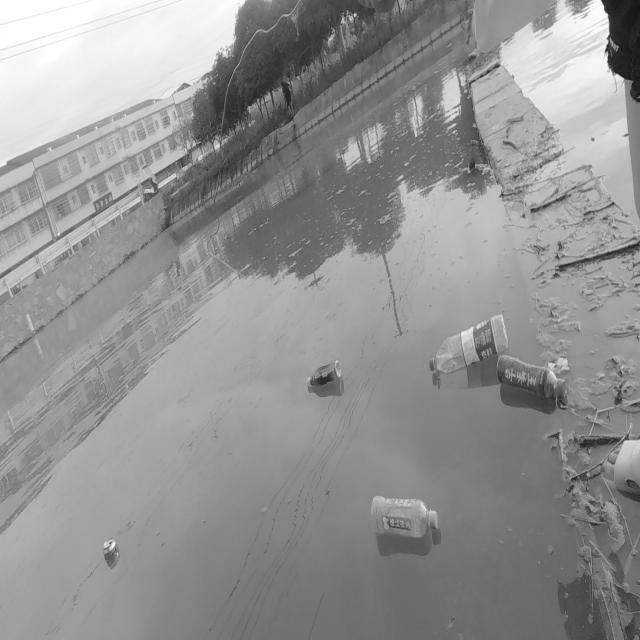bottle: (408, 296, 515, 392), (362, 481, 453, 547), (490, 352, 570, 414), (299, 341, 354, 400)
